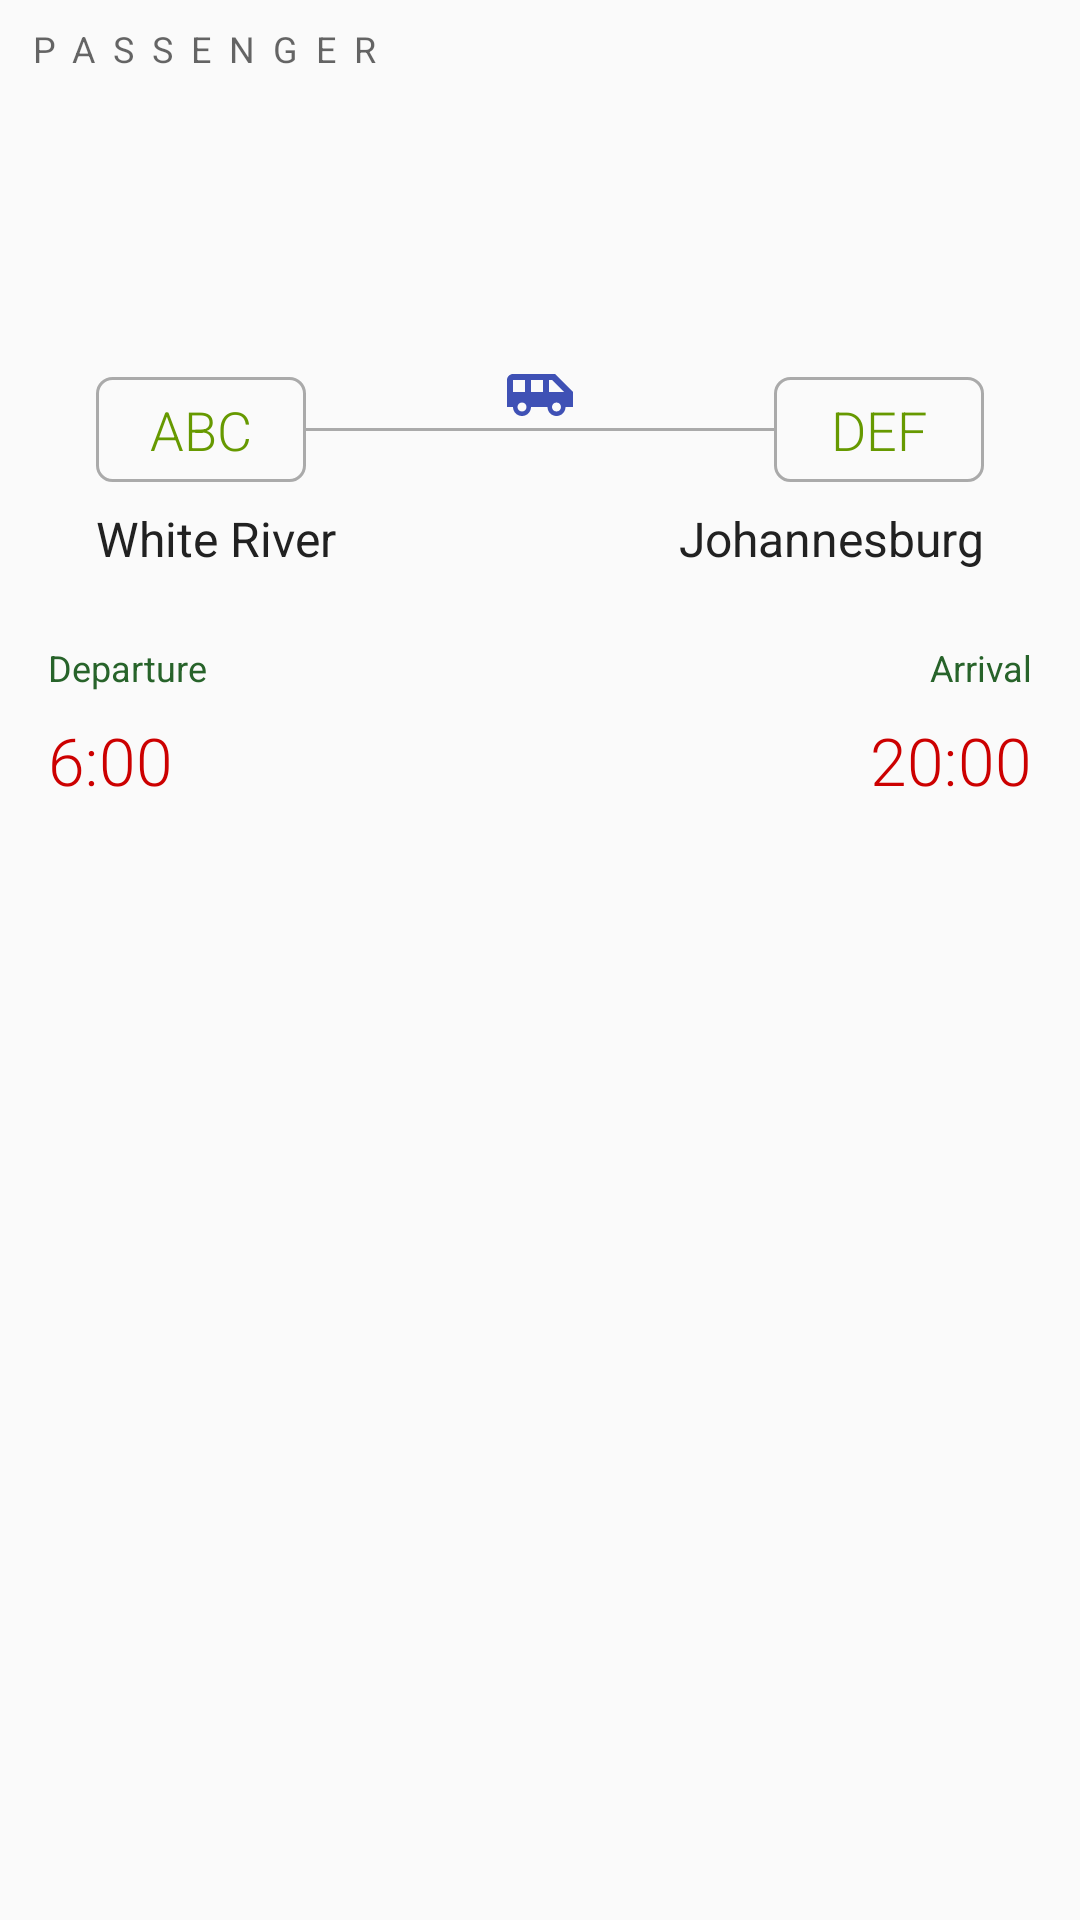

Where icons sit on this 1080 × 1920 app screen, as [x1=x1, y1=y1, x2=x2, y2=y2]:
shuttle: [x1=507, y1=374, x2=573, y2=416]
